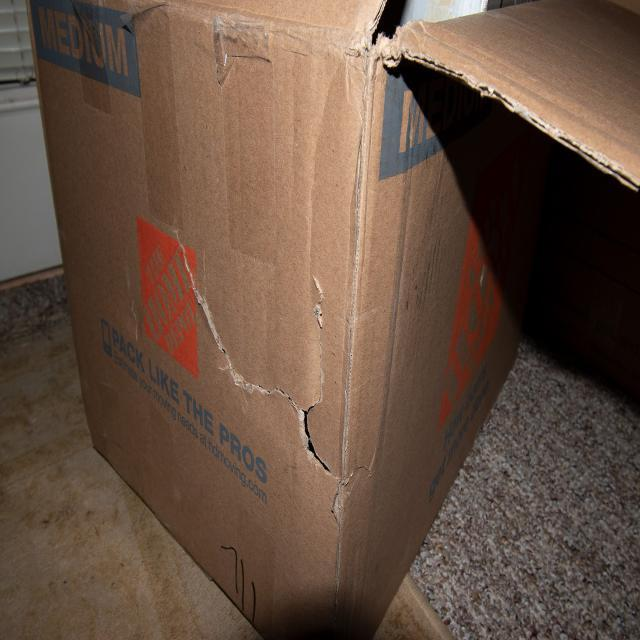damaged: (297, 396, 332, 481)
